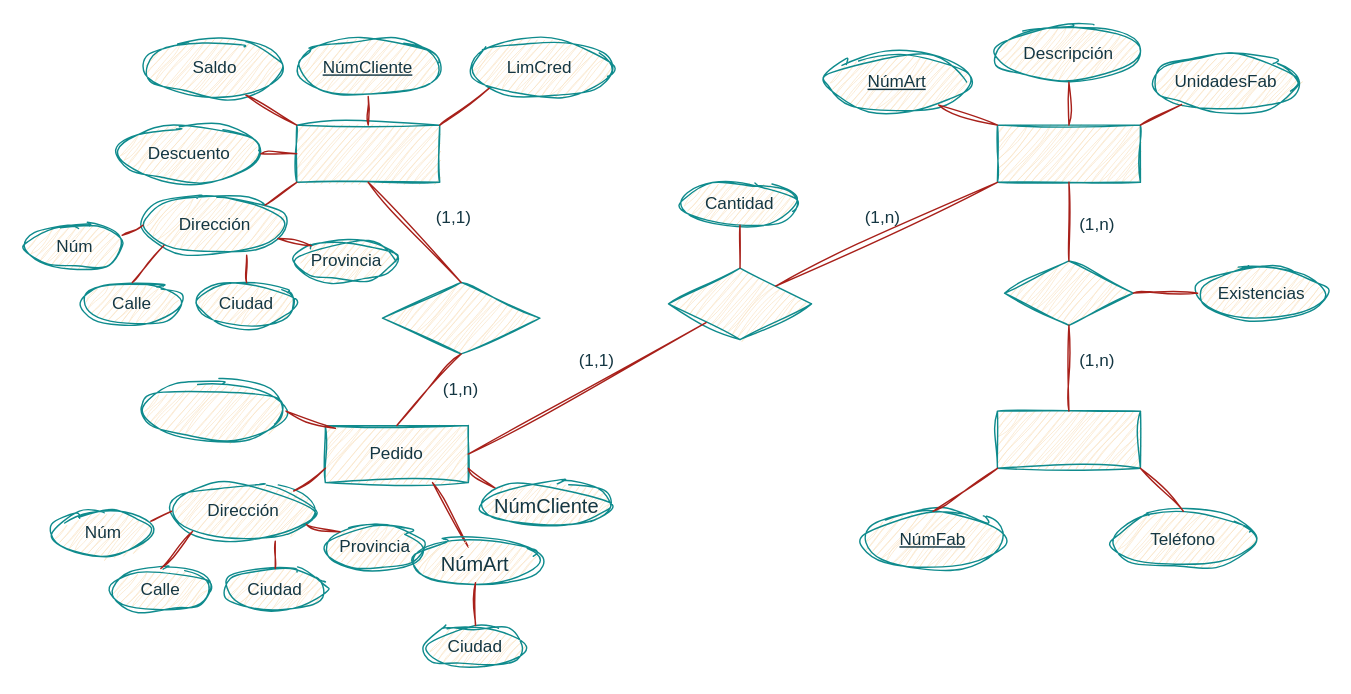
This 1351x694 diagram has some shape labels left out. The centre of each missing label's shape, as x and y in pixels:
Artículos: the point at 1068,153
Clientes: the point at 367,153
CodPedido: the point at 214,410
Fabrica: the point at 1068,292
Fábrica: the point at 1068,439
Hace: the point at 460,317
Incluye: the point at 739,303
